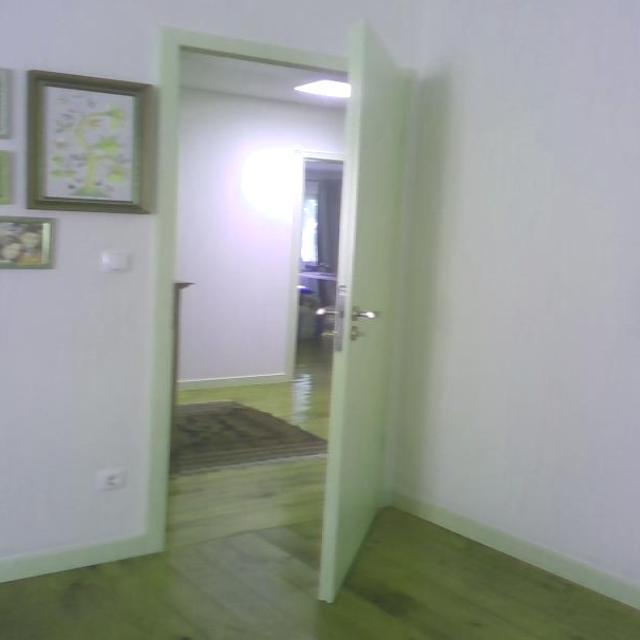door: (308, 22, 416, 613)
